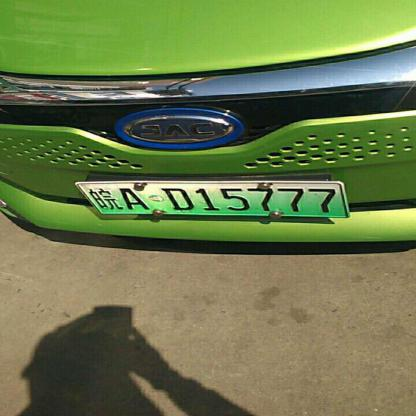lp: (76, 183, 348, 216)
